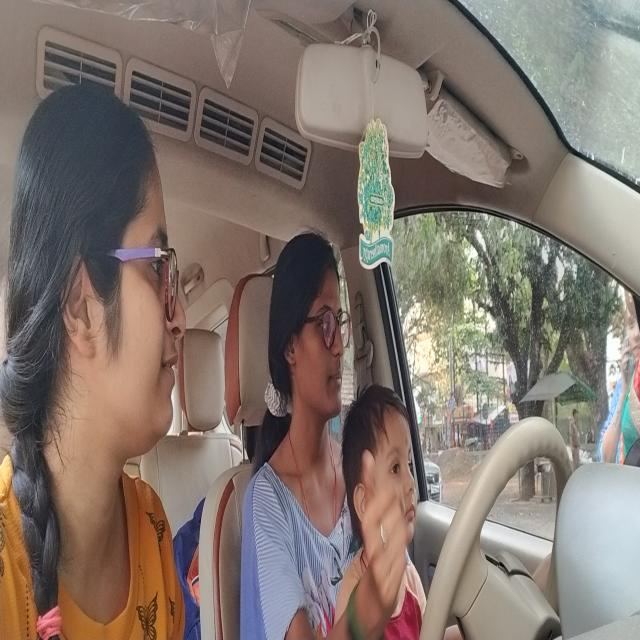child: (356, 386, 424, 536)
person: (48, 78, 188, 458), (274, 243, 348, 421)
